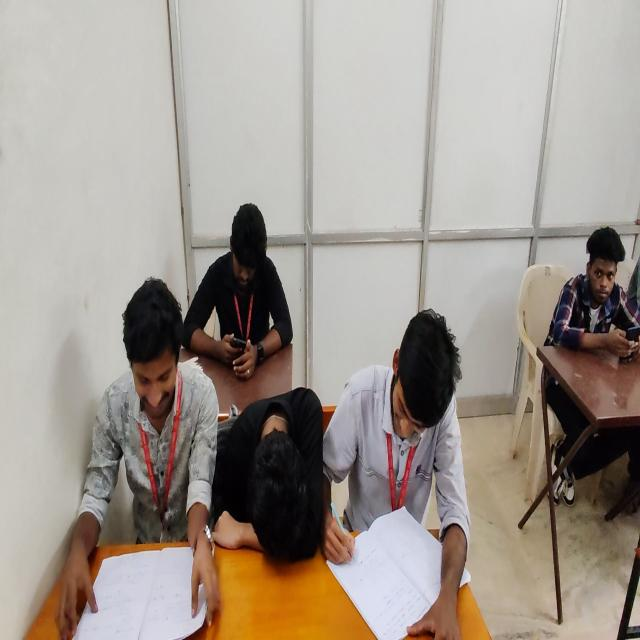reading: (47, 274, 220, 640)
sleeping: (205, 386, 332, 564)
using_mobile: (178, 196, 305, 381), (538, 209, 640, 376)
writing: (318, 304, 484, 638)
